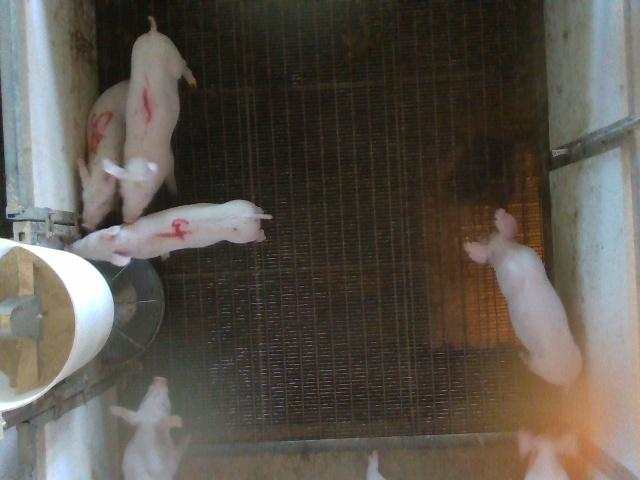pig-1: (105, 16, 196, 222)
pig-4: (69, 200, 271, 266)
pig-5: (79, 81, 128, 231)
